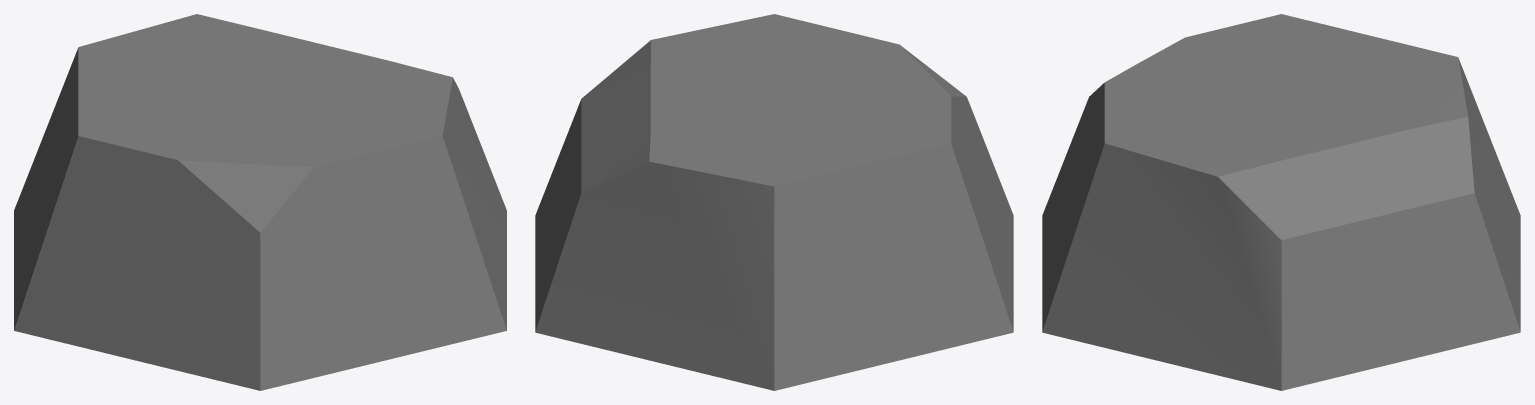
The model's file is rock4.fbx.
3 renders of one model, left to right at view 1: azimuth 30°, elevation 25°; view 2: azimuth 150°, elevation 25°; view 3: azimuth 270°, elevation 25°, orthographic. The views are drawn at different scales.
Visible parts, largest first — view 1: rock1; view 2: rock1; view 3: rock1.
Boxes of the visible parts, x1,y1,x2,y2 form: rock1: [14, 14, 506, 390]; rock1: [535, 14, 1013, 390]; rock1: [1042, 14, 1520, 390].
Size of the model in its own units: 652 by 227 by 565.
